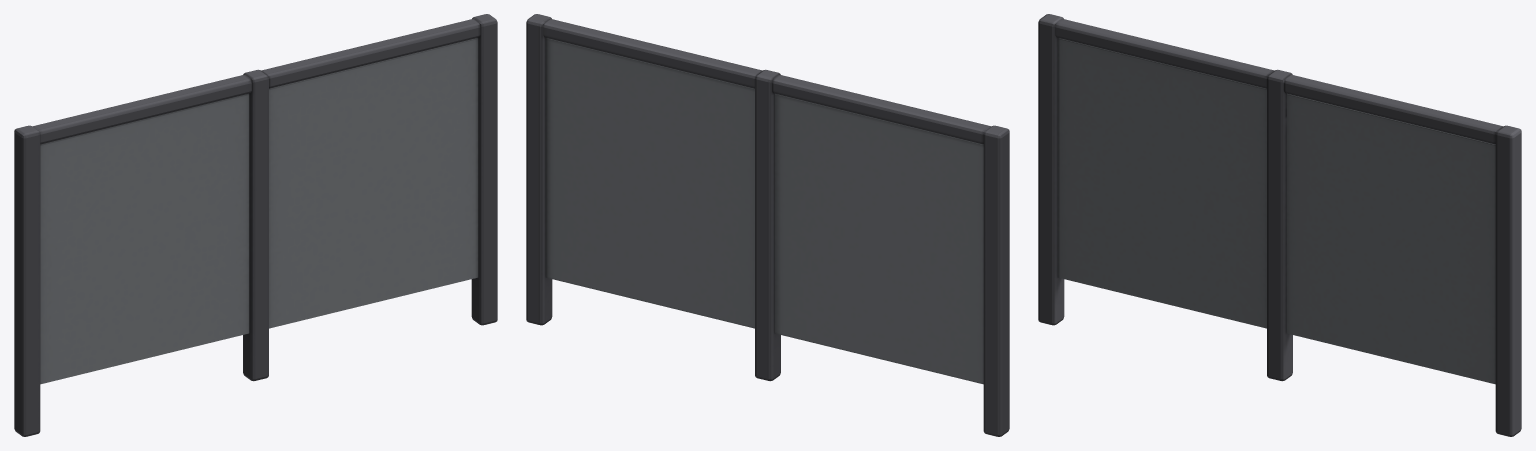
The model's file is fence.glb.
3 views of the same model, side by side, from view 1: azimuth 30°, elevation 25°; view 2: azimuth 150°, elevation 25°; view 3: azimuth 330°, elevation 25° (orthographic).
Visible parts, largest first — view 1: fence; view 2: fence; view 3: fence.
Part boxes in pixels (left/top/right/bottom): fence: left=14, top=14, right=497, bottom=436; fence: left=526, top=14, right=1009, bottom=436; fence: left=1038, top=14, right=1521, bottom=436.
Bounding box in the file's own units: 3.12 × 1.9 × 0.12.
Materials: 2 (2 with a texture image).
